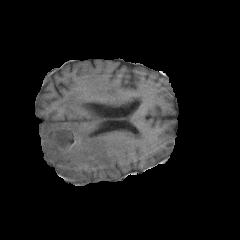glioma: (40, 96, 142, 178)
